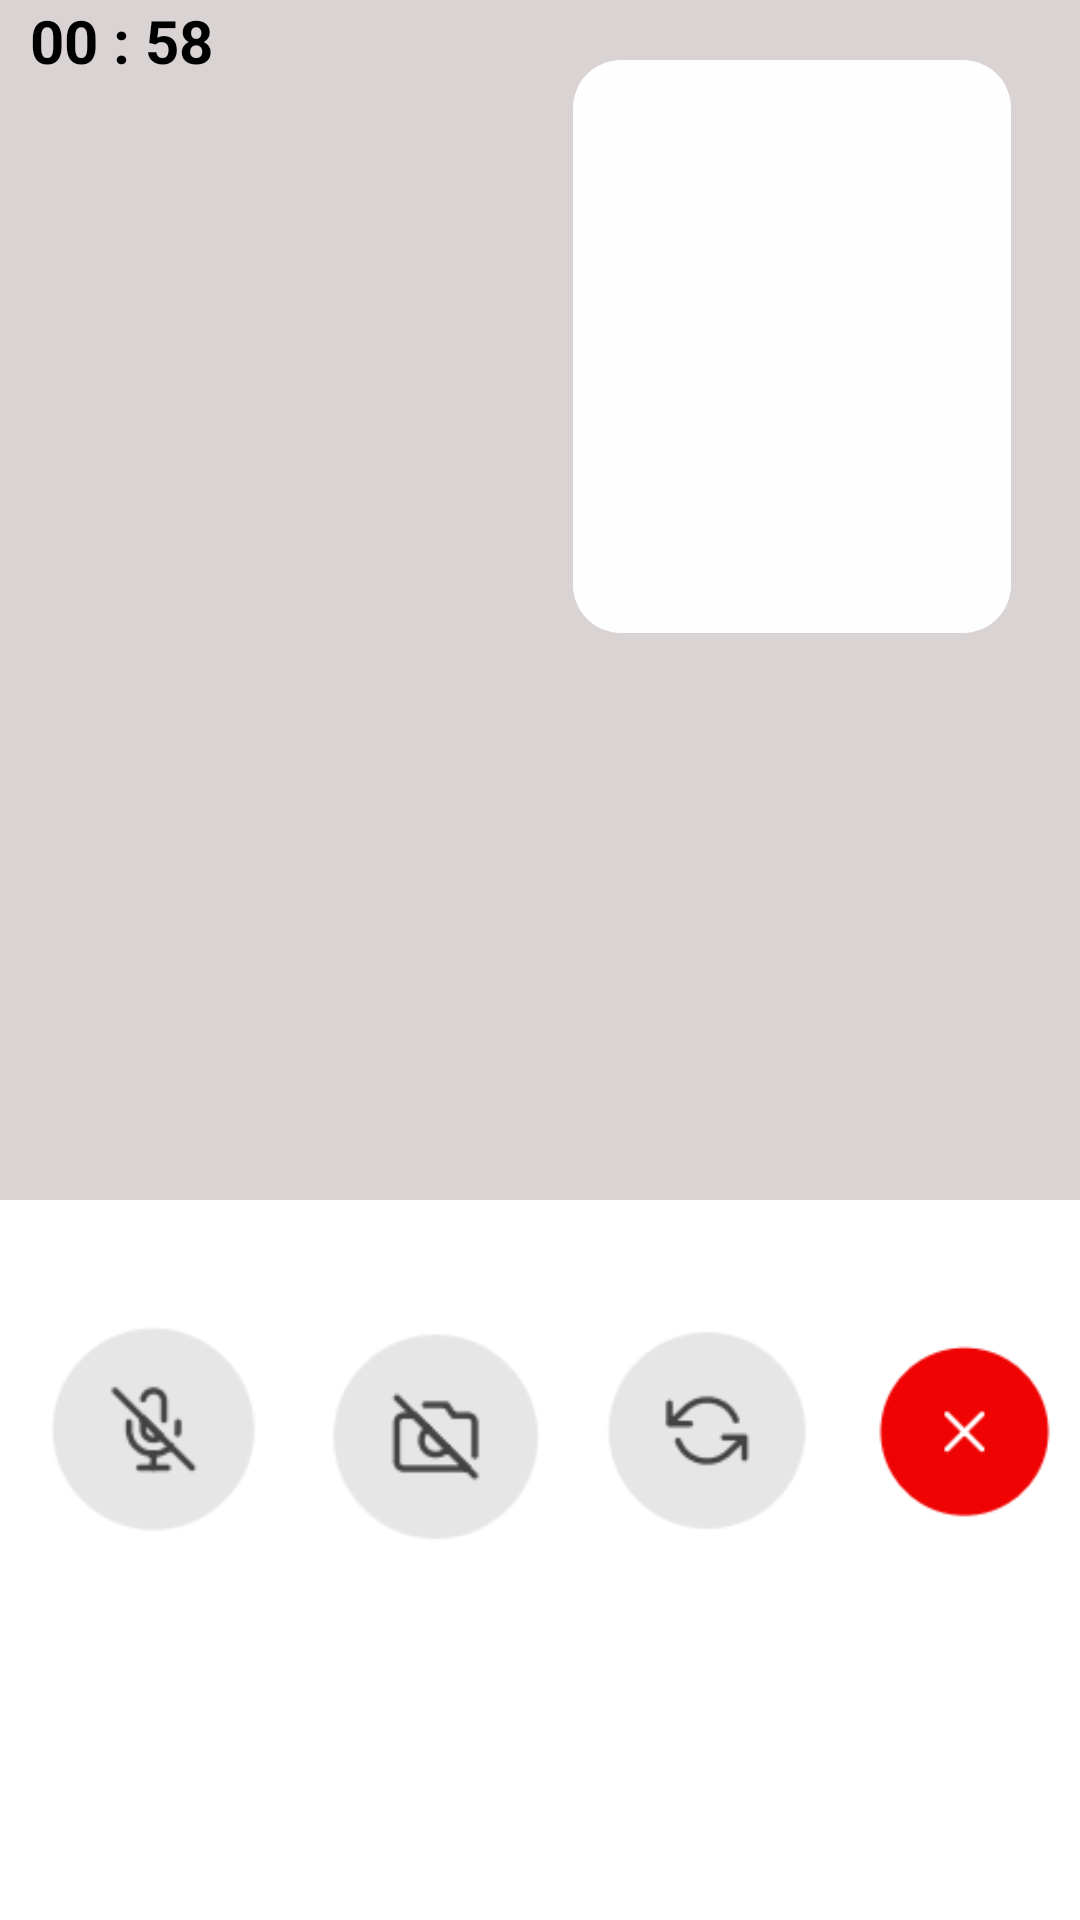

Named icons in this screenshot (1080*1920) and their bounding boxes, [x1=x1, y1=y1, x2=x2, y2=y2]:
declinecallicon: [x1=879, y1=1346, x2=1050, y2=1517]
flipscreenlight: [x1=610, y1=1334, x2=803, y2=1528]
micicon: [x1=54, y1=1330, x2=251, y2=1527]
offcamera: [x1=336, y1=1336, x2=536, y2=1538]
